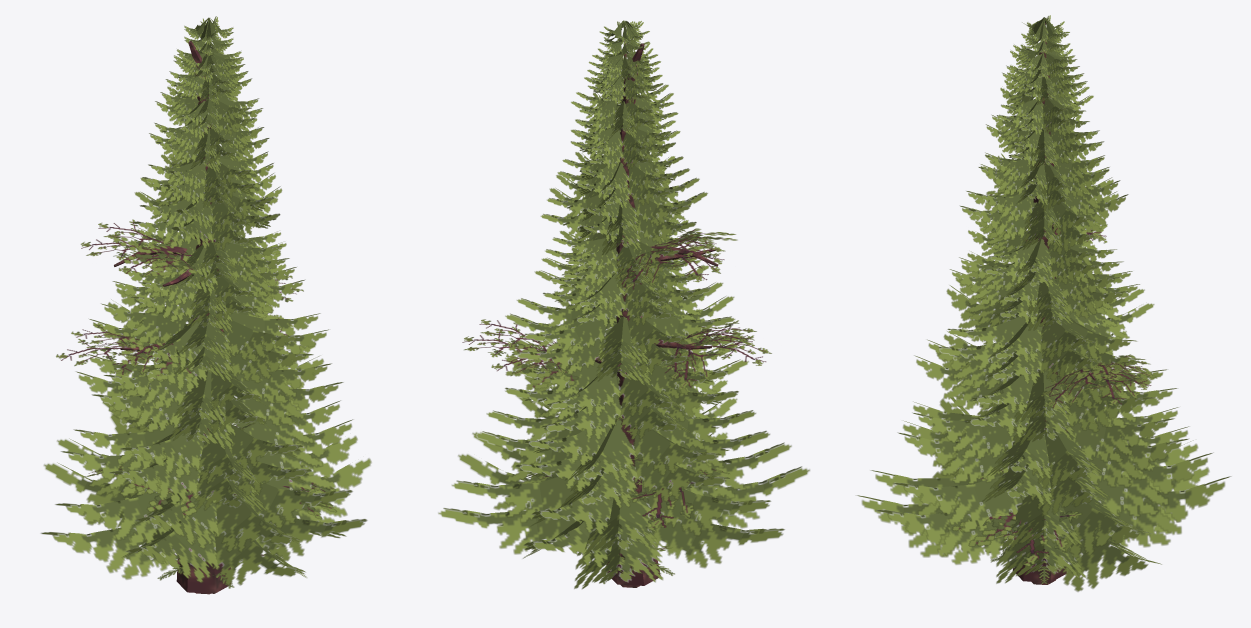
The model's file is bush_01.glb.
The picture shows the model from 3 angles, left to right: view 1: azimuth 30°, elevation 25°; view 2: azimuth 150°, elevation 25°; view 3: azimuth 270°, elevation 25°; orthographic projection.
Parts seen in each view (by area): view 1: spiky_tree, tree_01, trunk_04; view 2: spiky_tree, tree_01, trunk_04; view 3: spiky_tree, tree_01, trunk_04, trunk_01.
Part boxes in pixels (bbox=[...]): spiky_tree: bbox=[40, 16, 371, 585]; tree_01: bbox=[56, 41, 336, 519]; trunk_04: bbox=[176, 548, 230, 593]; spiky_tree: bbox=[438, 20, 809, 589]; tree_01: bbox=[462, 43, 771, 530]; trunk_04: bbox=[606, 554, 660, 585]; spiky_tree: bbox=[856, 15, 1231, 591]; tree_01: bbox=[952, 41, 1157, 566]; trunk_04: bbox=[1012, 522, 1066, 582]; trunk_01: bbox=[952, 511, 1081, 565].
Size of the model in its own units: 26.38 by 43.36 by 26.91.
Materials: 14 (14 with a texture image).
